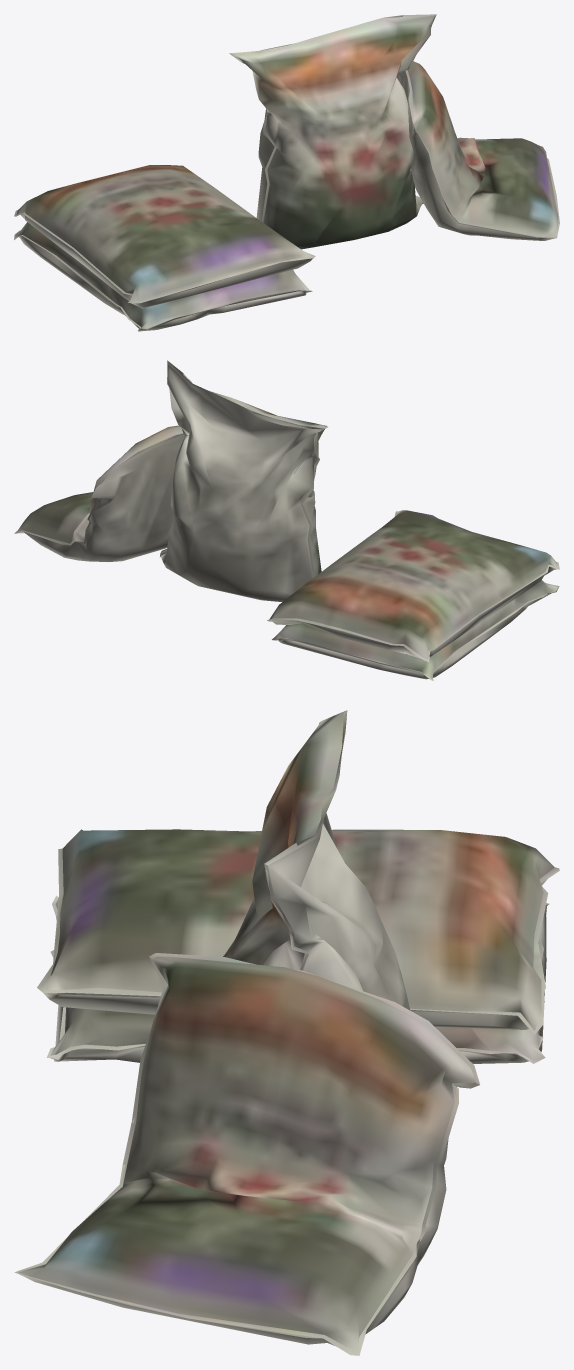
File: compost_bags_lod2.glb
3 views of the same model, one above another, from view 1: azimuth 30°, elevation 25°; view 2: azimuth 150°, elevation 25°; view 3: azimuth 270°, elevation 25° (orthographic). The views are drawn at different scales.
Visible parts, largest first — view 1: compost_bags_floorstacked, Cube.055, Cube.058; view 2: compost_bags_floorstacked, Cube.055, Cube.058; view 3: Cube.055, compost_bags_floorstacked, Cube.058.
Part boxes in pixels (x1=…): compost_bags_floorstacked: x1=14, y1=14, x2=436, y2=308; Cube.055: x1=396, y1=61, x2=559, y2=240; Cube.058: x1=14, y1=222, x2=312, y2=331; compost_bags_floorstacked: x1=160, y1=360, x2=559, y2=661; Cube.055: x1=14, y1=425, x2=184, y2=561; Cube.058: x1=272, y1=580, x2=559, y2=681; Cube.055: x1=14, y1=953, x2=479, y2=1355; compost_bags_floorstacked: x1=37, y1=710, x2=559, y2=1034; Cube.058: x1=46, y1=895, x2=549, y2=1063.
Bounding box in the file's own units: 1.83 × 0.7016 × 0.9259.
1 material, 1 textured.
